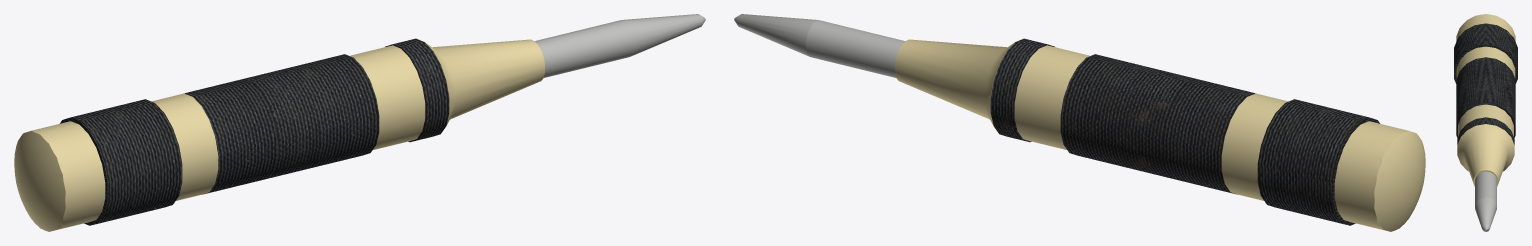
Rendered from Federkoerner.FBX.
The picture shows the model from 3 angles, left to right: view 1: azimuth 30°, elevation 25°; view 2: azimuth 150°, elevation 25°; view 3: azimuth 270°, elevation 25°; orthographic projection. The views are drawn at different scales.
Parts seen in each view (by area): view 1: Cylinder003; view 2: Cylinder003; view 3: Cylinder003.
Part boxes in pixels (bbox=[...]): Cylinder003: bbox=[14, 14, 705, 231]; Cylinder003: bbox=[734, 14, 1425, 231]; Cylinder003: bbox=[1454, 14, 1517, 231].
Bounding box in the file's own units: 11.37 × 1.61 × 1.59.
Materials: 3 (1 with a texture image).
